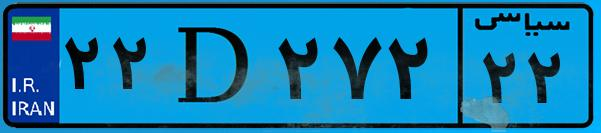2: (270, 28, 330, 110), (385, 28, 445, 110), (57, 26, 110, 100), (475, 38, 525, 113), (525, 38, 570, 115), (110, 28, 158, 98)
7: (330, 28, 385, 110)
D: (158, 12, 270, 120)
